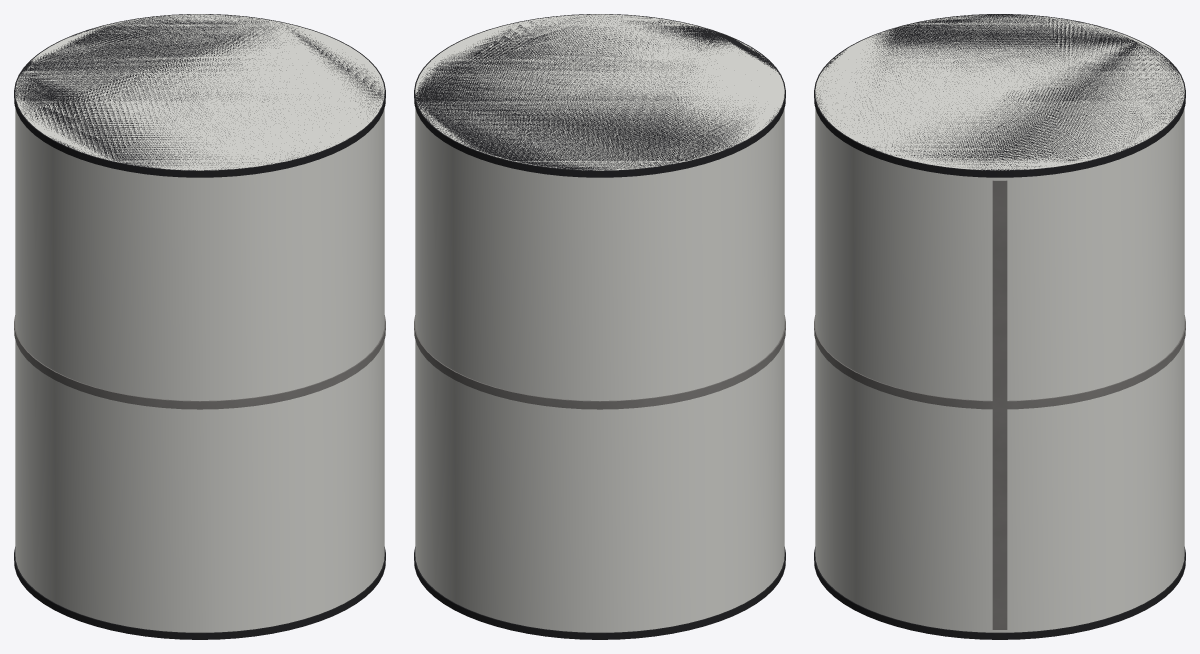
The model's file is tank13_tank_length_series_m_half.glb.
3 views of the same model, side by side, from view 1: azimuth 30°, elevation 25°; view 2: azimuth 150°, elevation 25°; view 3: azimuth 270°, elevation 25° (orthographic).
Visible parts, largest first — view 1: tank, stack_flanges, ring_frames; view 2: tank, stack_flanges, ring_frames; view 3: tank, stack_flanges, feedline, ring_frames.
Boxes of the visible parts, <box> form: tank: <box>15,14,384,632</box>; stack_flanges: <box>14,14,385,639</box>; ring_frames: <box>14,315,385,409</box>; tank: <box>415,14,784,632</box>; stack_flanges: <box>414,14,785,639</box>; ring_frames: <box>414,315,785,409</box>; tank: <box>815,14,1184,632</box>; stack_flanges: <box>814,14,1185,639</box>; feedline: <box>992,180,1007,629</box>; ring_frames: <box>814,315,1185,409</box>.
Bounding box in the file's own units: 2.51 × 3.5 × 2.52.
3 materials, 1 textured.
